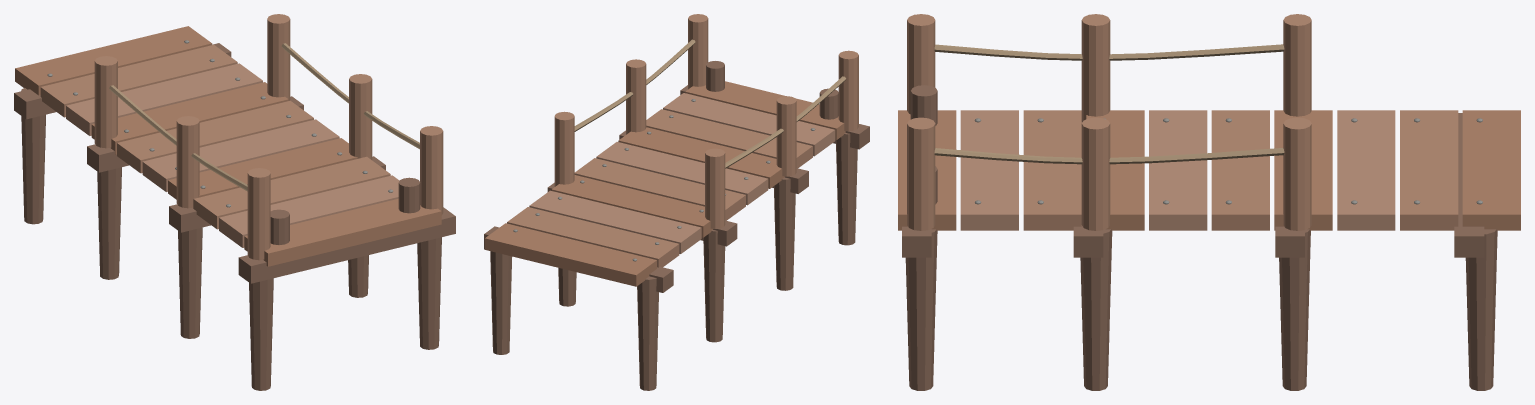
The model's file is dock_royal.glb.
3 views of the same model, side by side, from view 1: azimuth 30°, elevation 25°; view 2: azimuth 150°, elevation 25°; view 3: azimuth 270°, elevation 25° (orthographic). The views are drawn at different scales.
Visible parts, largest first — view 1: Dock_Royal_Plank_10, Dock_Royal_Plank_01, Dock_Royal_Plank_08, Dock_Royal_Plank_02, Dock_Royal_Plank_05, Dock_Royal_Plank_06, Dock_Royal_Plank_03, Dock_Royal_Plank_04, Dock_Royal_Plank_09, Dock_Royal_Plank_07, Dock_Royal_Crossbeam_4, Dock_Royal_Support_-1_4 (+18 smaller); view 2: Dock_Royal_Plank_01, Dock_Royal_Plank_03, Dock_Royal_Plank_02, Dock_Royal_Plank_04, Dock_Royal_Plank_06, Dock_Royal_Plank_09, Dock_Royal_Plank_05, Dock_Royal_Plank_08, Dock_Royal_Plank_07, Dock_Royal_Plank_10, Dock_Royal_Support_-1_1, Dock_Royal_Support_-1_3 (+18 smaller); view 3: Dock_Royal_Plank_03, Dock_Royal_Plank_02, Dock_Royal_Plank_01, Dock_Royal_Plank_06, Dock_Royal_Plank_09, Dock_Royal_Plank_05, Dock_Royal_Plank_08, Dock_Royal_Plank_07, Dock_Royal_Support_1_1, Dock_Royal_Support_1_3, Dock_Royal_Support_1_4, Dock_Royal_Support_1_2 (+15 smaller).
Part boxes in pixels (x1,y1,x2,y2): Dock_Royal_Plank_10: [244, 198, 441, 266]; Dock_Royal_Plank_01: [15, 26, 212, 95]; Dock_Royal_Plank_08: [193, 156, 390, 229]; Dock_Royal_Plank_02: [40, 44, 237, 117]; Dock_Royal_Plank_05: [117, 100, 313, 173]; Dock_Royal_Plank_06: [142, 119, 339, 191]; Dock_Royal_Plank_03: [66, 63, 262, 135]; Dock_Royal_Plank_04: [91, 82, 288, 154]; Dock_Royal_Plank_09: [219, 175, 399, 247]; Dock_Royal_Plank_07: [168, 138, 357, 199]; Dock_Royal_Crossbeam_4: [238, 207, 455, 283]; Dock_Royal_Support_-1_4: [249, 278, 273, 390]; Dock_Royal_Plank_01: [485, 223, 656, 286]; Dock_Royal_Plank_03: [529, 190, 701, 253]; Dock_Royal_Plank_02: [507, 207, 679, 267]; Dock_Royal_Plank_04: [551, 175, 712, 237]; Dock_Royal_Plank_06: [596, 142, 768, 205]; Dock_Royal_Plank_09: [663, 93, 835, 156]; Dock_Royal_Plank_05: [574, 158, 745, 220]; Dock_Royal_Plank_08: [646, 109, 812, 168]; Dock_Royal_Plank_07: [618, 127, 784, 188]; Dock_Royal_Plank_10: [685, 81, 845, 139]; Dock_Royal_Support_-1_1: [637, 276, 658, 390]; Dock_Royal_Support_-1_3: [774, 177, 795, 290]; Dock_Royal_Plank_03: [1337, 110, 1395, 230]; Dock_Royal_Plank_02: [1400, 110, 1458, 230]; Dock_Royal_Plank_01: [1462, 110, 1520, 230]; Dock_Royal_Plank_06: [1149, 110, 1207, 230]; Dock_Royal_Plank_09: [960, 110, 1018, 230]; Dock_Royal_Plank_05: [1211, 110, 1269, 230]; Dock_Royal_Plank_08: [1023, 110, 1081, 230]; Dock_Royal_Plank_07: [1086, 110, 1144, 230]; Dock_Royal_Support_1_1: [1465, 229, 1497, 390]; Dock_Royal_Support_1_3: [1080, 229, 1112, 390]; Dock_Royal_Support_1_4: [905, 229, 937, 390]; Dock_Royal_Support_1_2: [1279, 229, 1310, 390].
Bounding box in the file's own units: 1.95 × 1.95 × 4.17.
